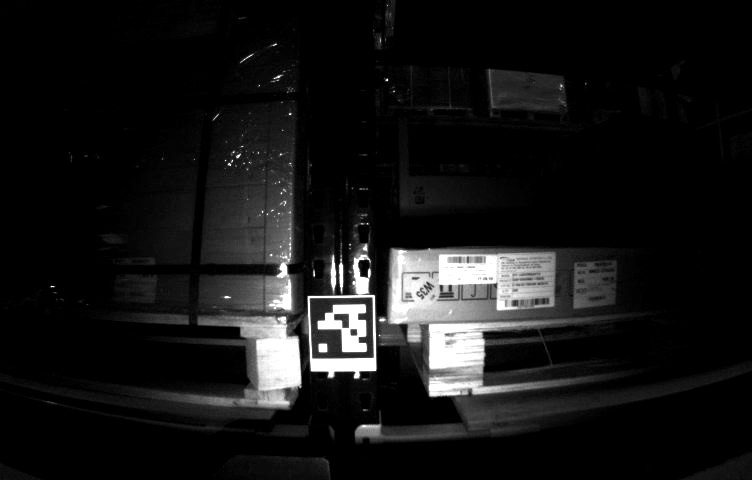True Barcode: (112, 260, 154, 304), (574, 264, 614, 303)
